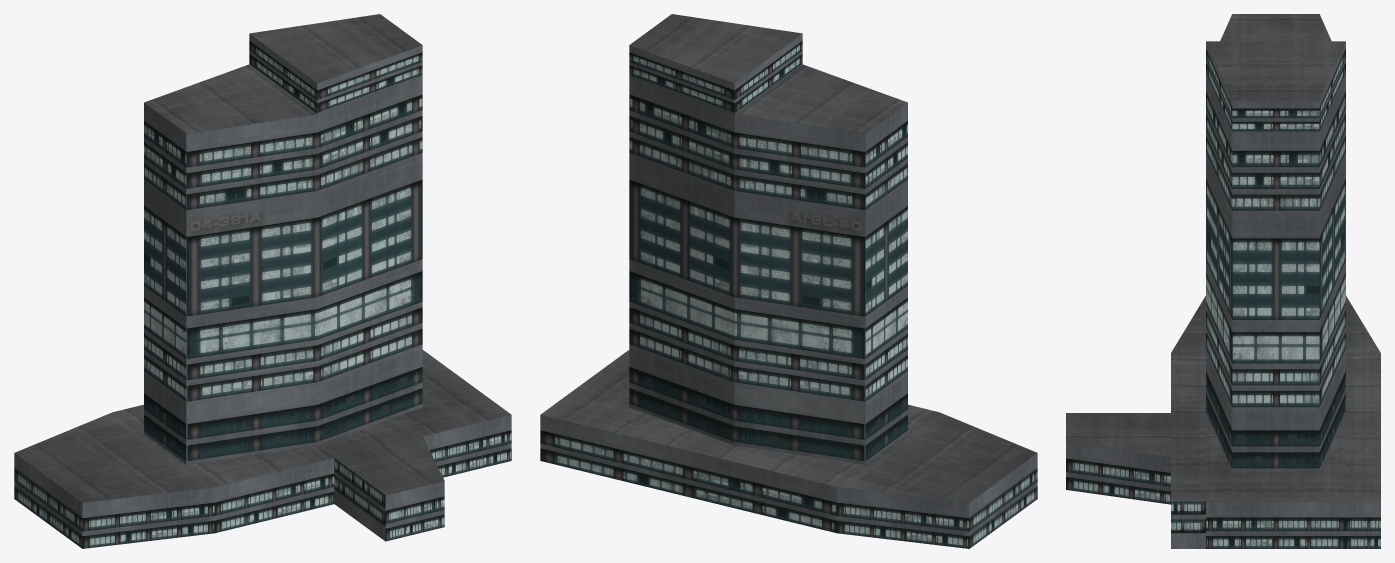
File: Bldg01.fbx
3 renders of one model, left to right at view 1: azimuth 30°, elevation 25°; view 2: azimuth 150°, elevation 25°; view 3: azimuth 270°, elevation 25°, orthographic. The views are drawn at different scales.
Visible parts, largest first — view 1: Bldg01; view 2: Bldg01; view 3: Bldg01.
Part boxes in pixels (left/top/right/bottom): Bldg01: left=14, top=14, right=511, bottom=548; Bldg01: left=540, top=14, right=1037, bottom=548; Bldg01: left=1066, top=14, right=1380, bottom=548.
Size of the model in its own units: 223 by 211 by 144.
